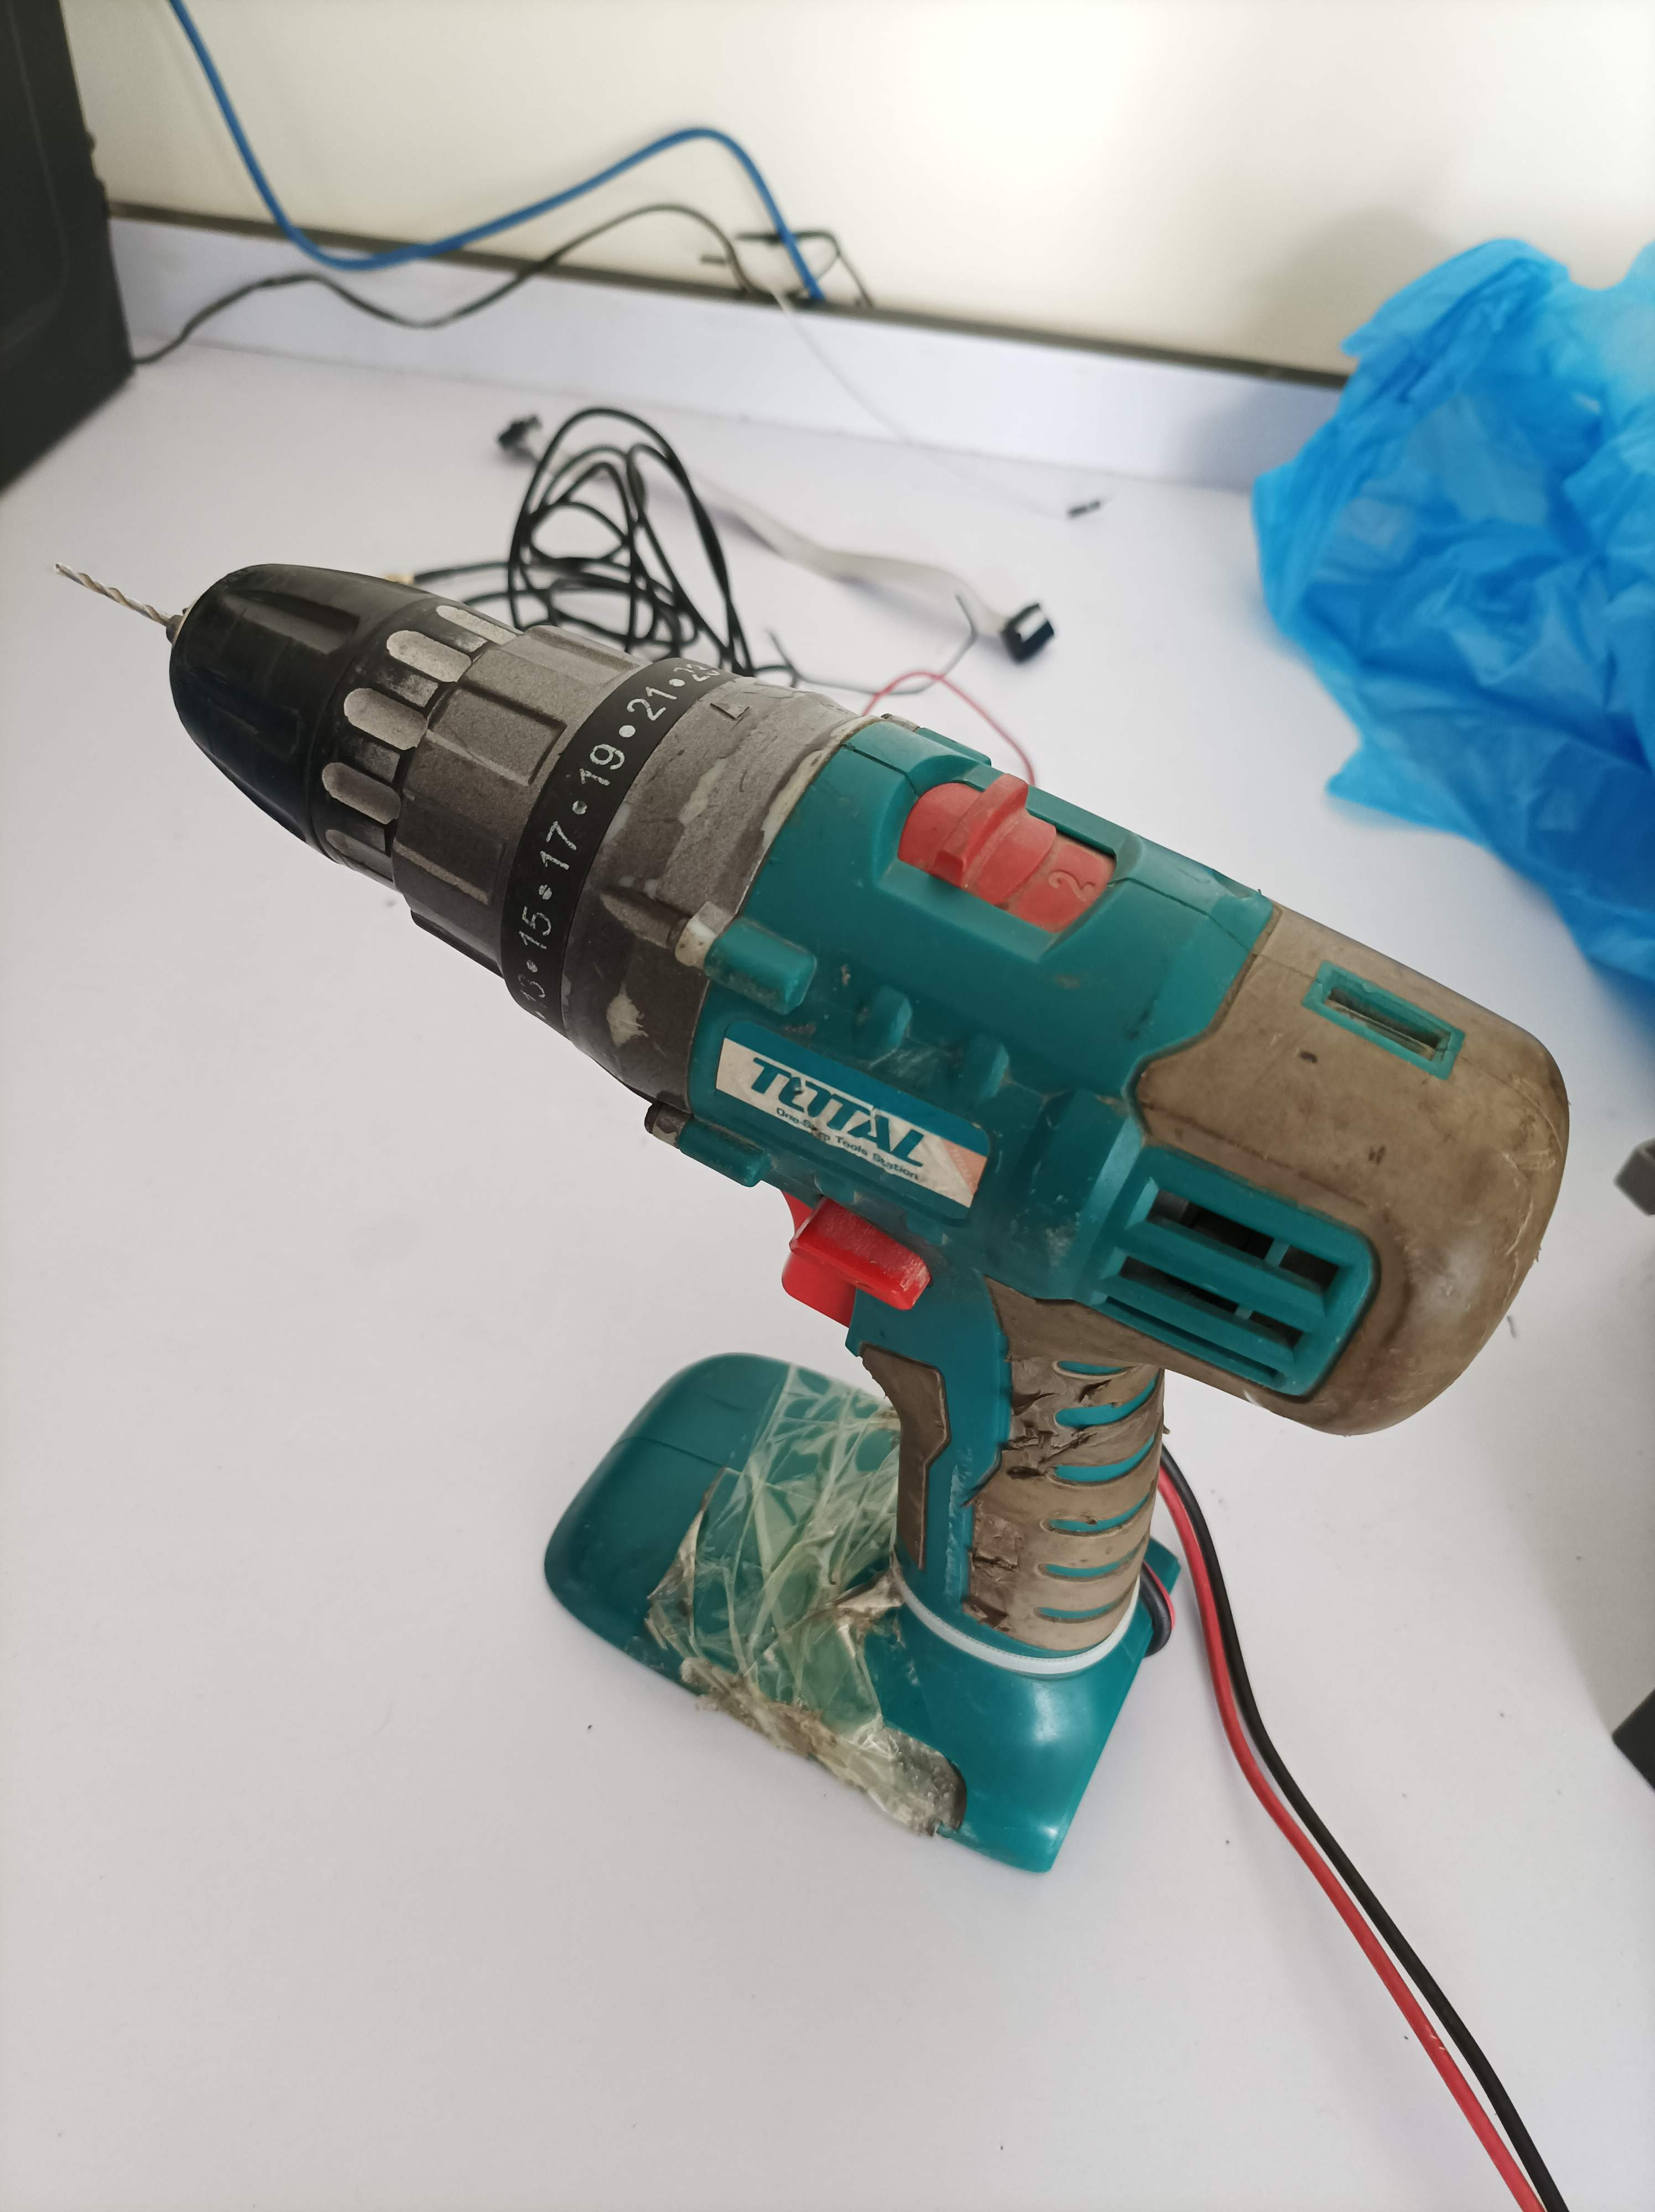driller: (40, 540, 1579, 1889)
